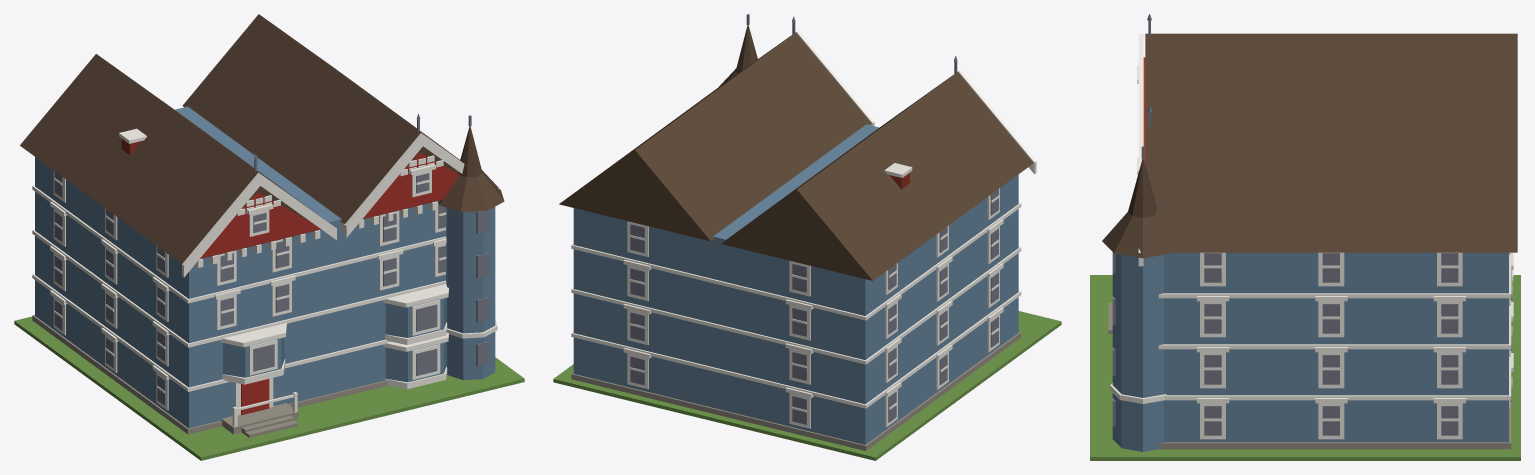
File: house-2x2-4f-victorian-a.glb
The picture shows the model from 3 angles, left to right: view 1: azimuth 30°, elevation 25°; view 2: azimuth 150°, elevation 25°; view 3: azimuth 270°, elevation 25°; orthographic projection. The views are drawn at different scales.
Parts seen in each view (by area): view 1: house-2x2-4f-victorian-a; view 2: house-2x2-4f-victorian-a; view 3: house-2x2-4f-victorian-a.
Boxes of the visible parts, x1,y1,x2,y2 form: house-2x2-4f-victorian-a: [14, 14, 524, 460]; house-2x2-4f-victorian-a: [553, 14, 1061, 460]; house-2x2-4f-victorian-a: [1090, 14, 1520, 460].
Size of the model in its own units: 1.99 by 1.58 by 1.99.
Materials: 1 (1 with a texture image).
